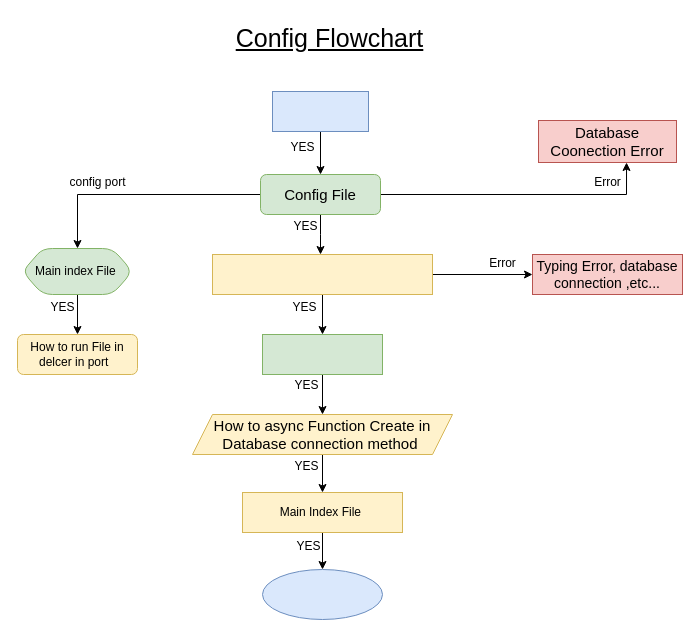
Image size: 700x637. Some labels were removed from this diagram. Each missing label, with the centre of its shape:
".ENV File" belongs at pixel 320 111.
"dbconnection File" belongs at pixel 322 354.
"Function Calling" belongs at pixel 322 594.
"Module export in Database connection method using" belongs at pixel 322 274.
